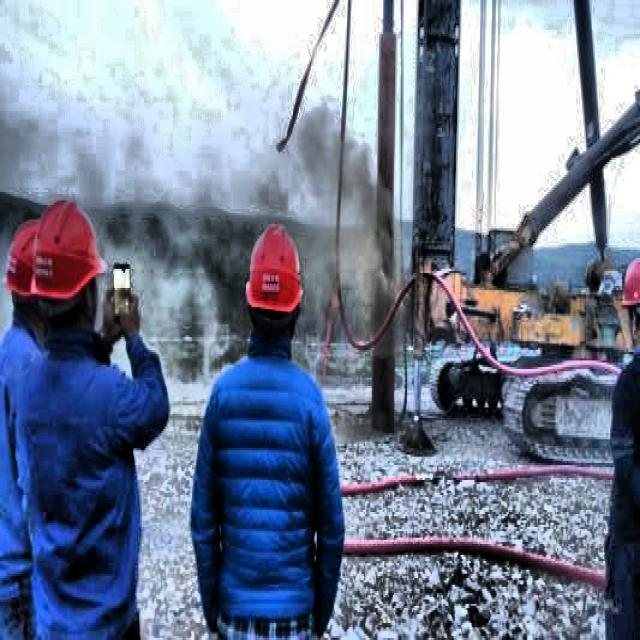helmet: (36, 194, 112, 352), (236, 218, 306, 369), (8, 209, 51, 337)
